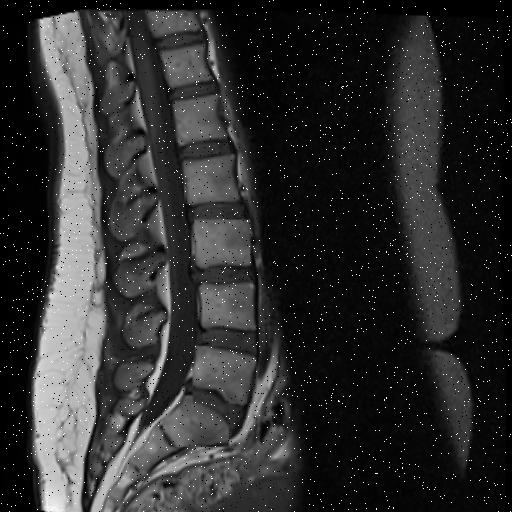L1: (174, 93, 226, 141)
L2: (183, 153, 239, 201)
L3: (194, 217, 251, 265)
L4: (202, 282, 256, 326)
L5: (193, 344, 257, 401)
S1: (164, 393, 230, 445)
